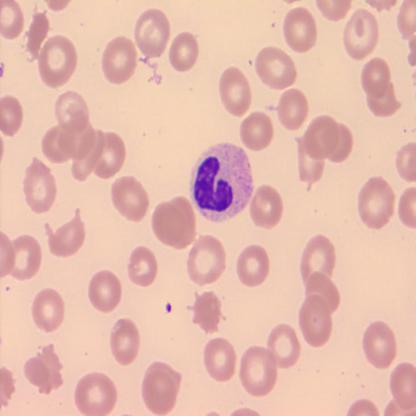Band Neutrophil: (187, 140, 256, 224)
